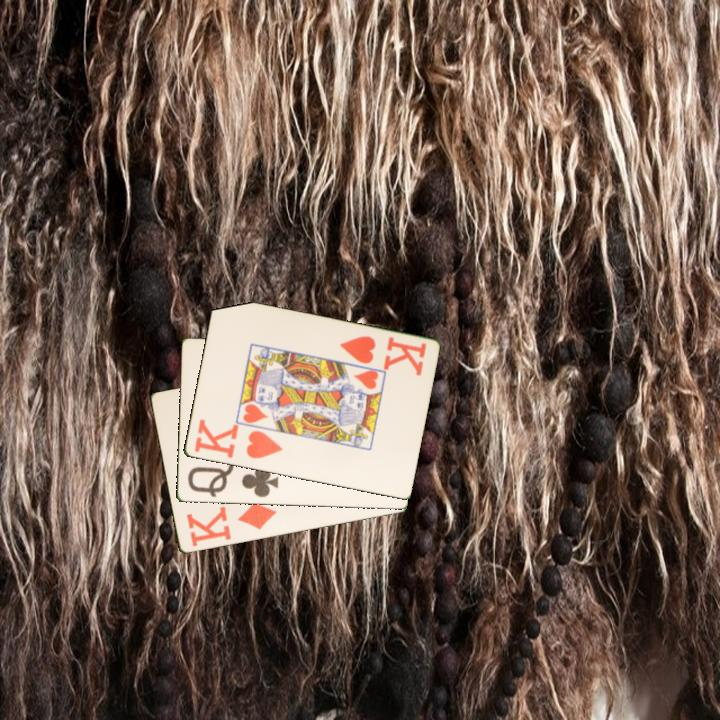Kd: (183, 499, 279, 550)
Kh: (190, 416, 285, 462), (336, 332, 429, 378)
Qc: (184, 462, 281, 501)
